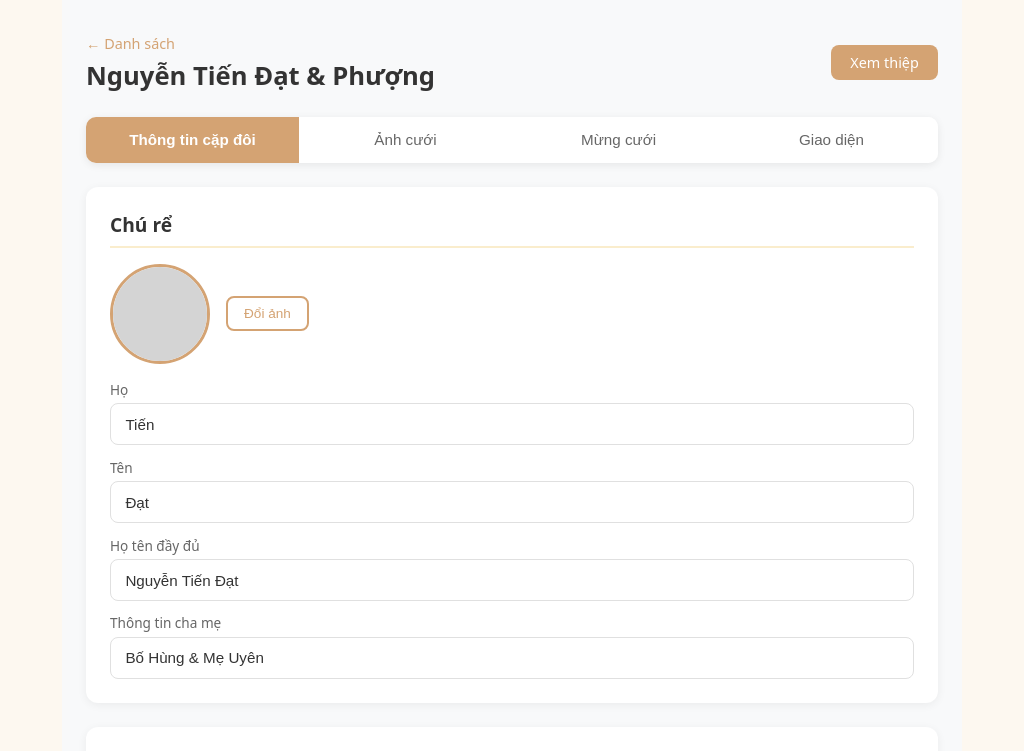
Test: CoupleAdmin – tab persistence › tab "Ảnh cưới" stays active after upload completes
The width and height of the screenshot is (1024, 751).
Note: Switch to photos tab
Click the button "Ảnh cưới": (406, 140) [299,117,512,163]
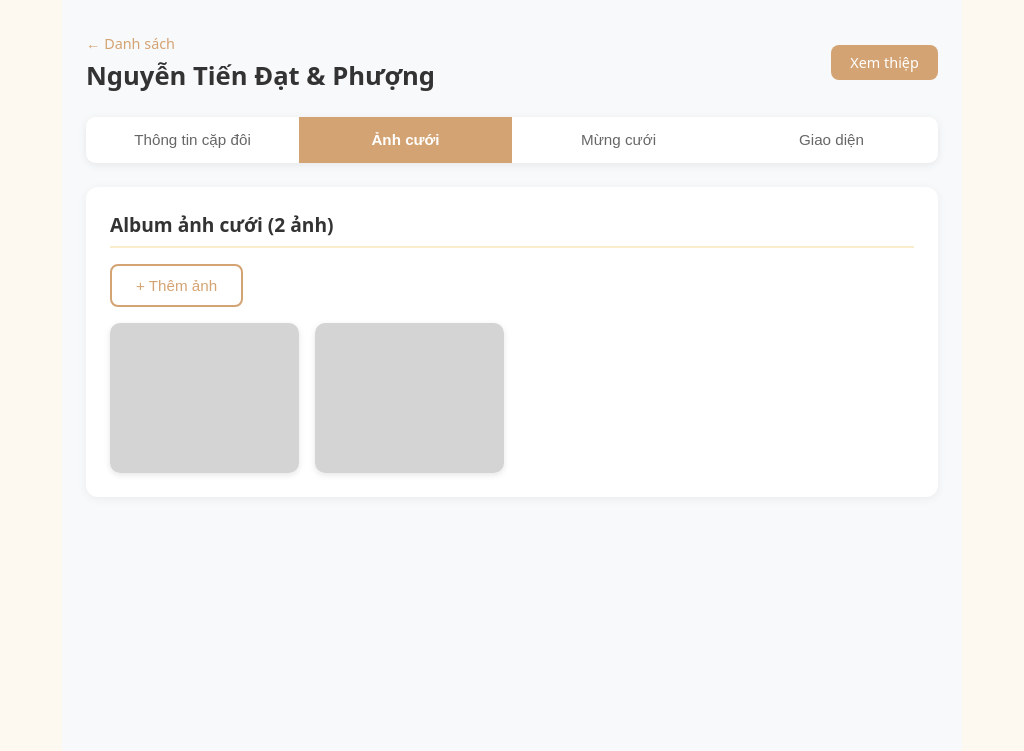
Expected: the heading "Album ảnh cưới (2 ảnh)" is shown, [110,211,914,248]
